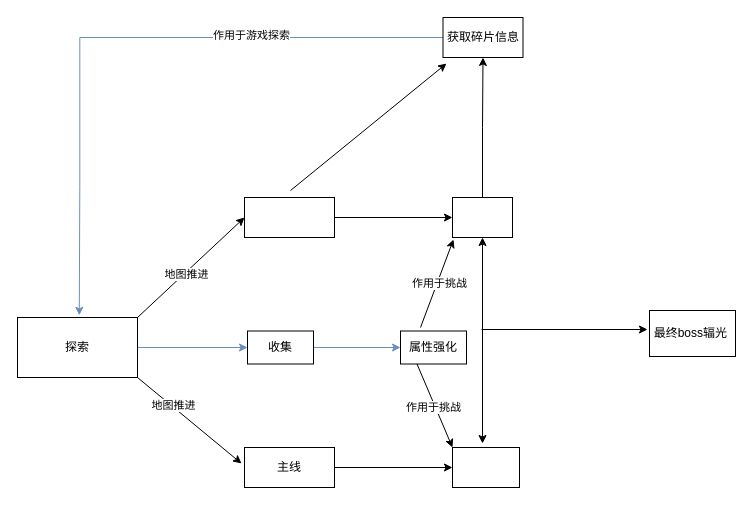
The diagram is 753 pixels wide and 505 high, and some of its shapes have lost their labels. The shapes that lost their labels are listed below. From the top down, each one's box as (x1, y1, x2, y2) in pixels, then its label:
(244, 196, 334, 238): 支线
(452, 196, 512, 238): 支线boss
(452, 446, 520, 488): 主线boss
